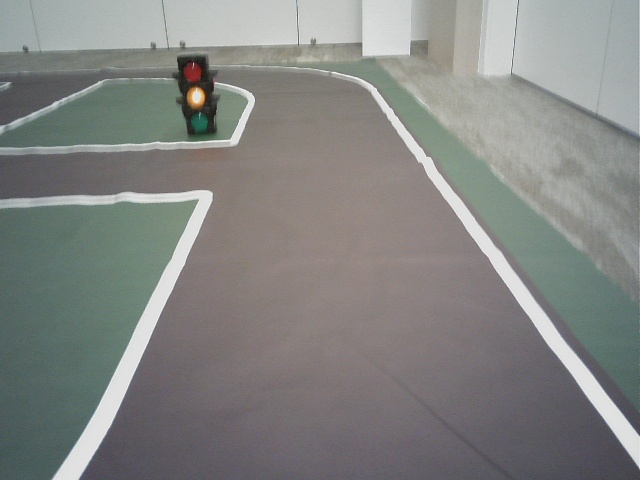yellow: (177, 59, 213, 133)
